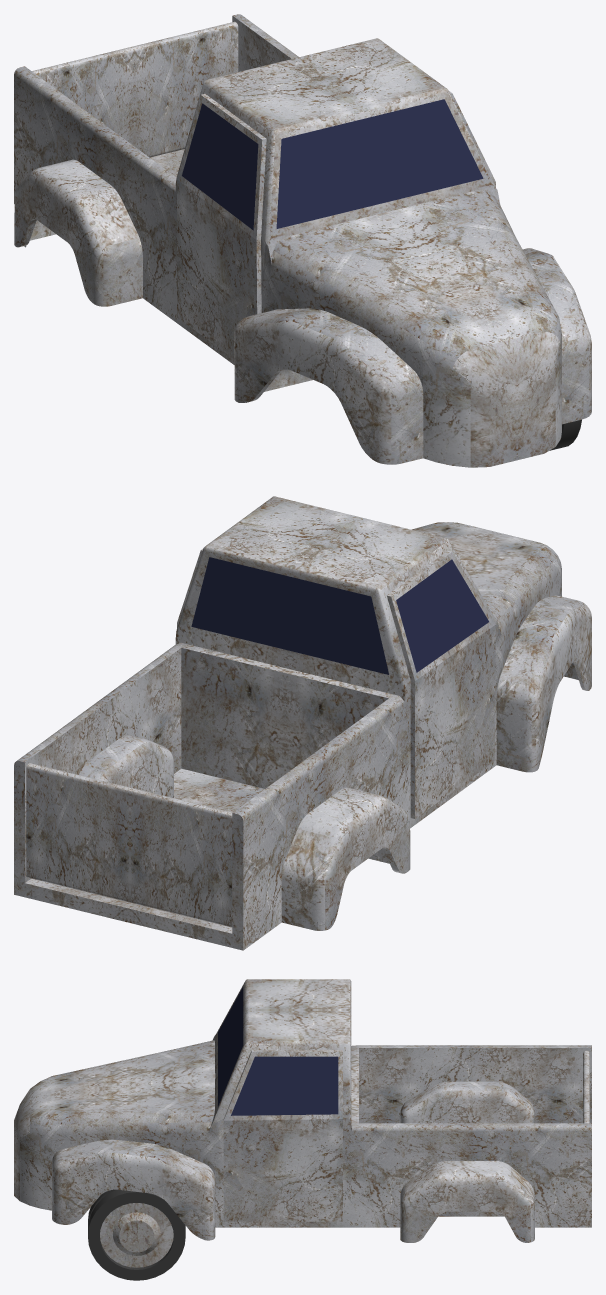
File: Pickup.fbx
The picture shows the model from 3 angles, top to bottom: view 1: azimuth 30°, elevation 25°; view 2: azimuth 150°, elevation 25°; view 3: azimuth 270°, elevation 25°; orthographic projection. The views are drawn at different scales.
Visible parts, largest first — view 1: Cube; view 2: Cube; view 3: Cube, Cylinder.
Boxes of the visible parts, box(x1,y1,x2,y2) form: Cube: box(14, 14, 591, 467); Cube: box(14, 496, 591, 950); Cube: box(14, 979, 591, 1242); Cylinder: box(88, 1189, 185, 1280).
Size of the model in its own units: 202 by 189 by 432.
